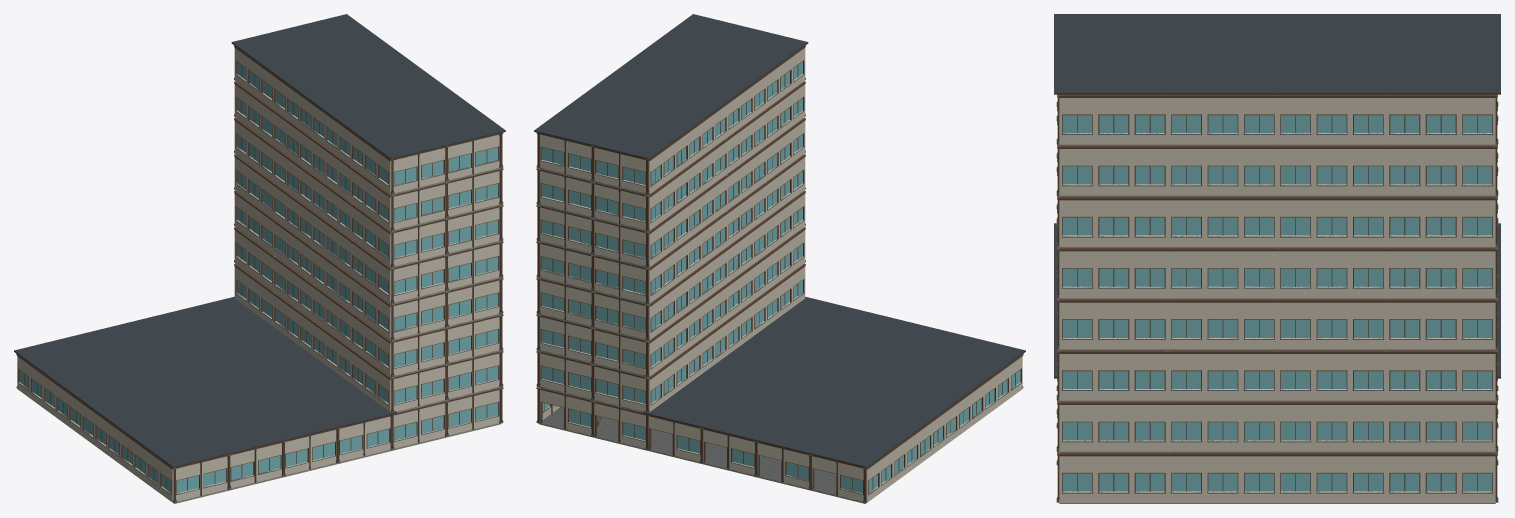
3 views of the same model, side by side, from view 1: azimuth 30°, elevation 25°; view 2: azimuth 150°, elevation 25°; view 3: azimuth 270°, elevation 25° (orthographic). The views are drawn at different scales.
Parts seen in each view (by area): view 1: 参数墙 · 独立窗玻璃 (×52), 连续屋面 · flat (×2); view 2: 参数墙 · 独立窗玻璃 (×46), 连续屋面 · flat (×2), 参数墙 · 通行门洞 (×6), 石铺面与混凝土楼板 (×4); view 3: 参数墙 · 独立窗玻璃 (×32), 连续屋面 · flat (×2).
Boxes of the visible parts, bbox=[...] form: 参数墙 · 独立窗玻璃 (×52): bbox=[16, 46, 500, 502]; 连续屋面 · flat (×2): bbox=[14, 14, 505, 468]; 参数墙 · 独立窗玻璃 (×46): bbox=[539, 46, 1023, 502]; 连续屋面 · flat (×2): bbox=[534, 14, 1025, 468]; 参数墙 · 通行门洞 (×6): bbox=[539, 388, 863, 501]; 石铺面与混凝土楼板 (×4): bbox=[593, 420, 831, 490]; 参数墙 · 独立窗玻璃 (×32): bbox=[1059, 94, 1495, 502]; 连续屋面 · flat (×2): bbox=[1054, 14, 1500, 378].
Bounding box in the file's own units: 42 × 35.52 × 34.8.
15 materials, 15 textured.
